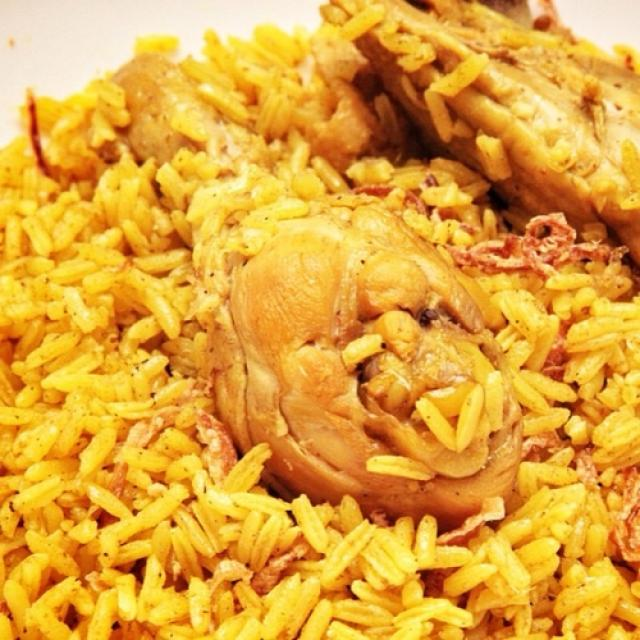米饭主食: (8, 10, 626, 626)
